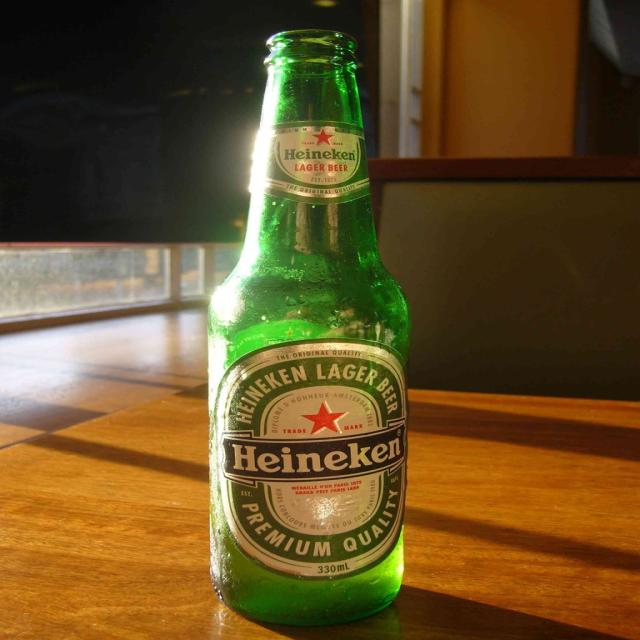heineken: (215, 339, 409, 577)
